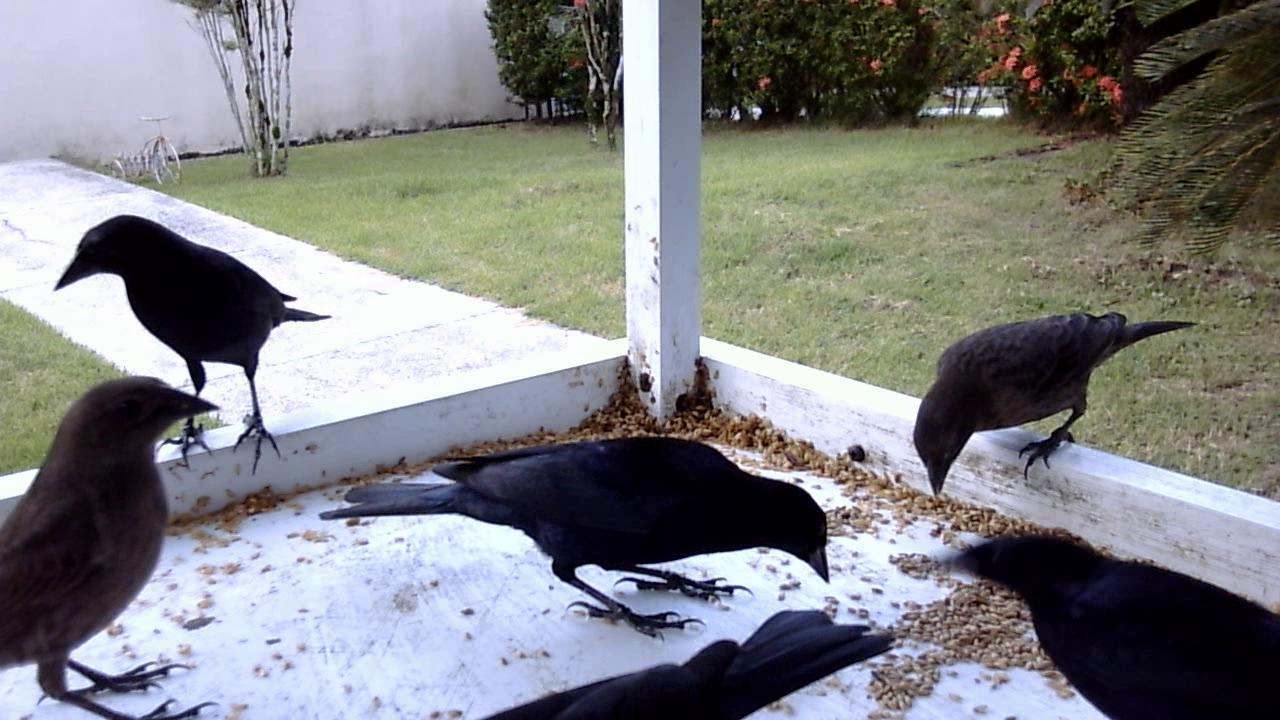chupim: (307, 430, 841, 647), (44, 204, 343, 480), (1, 359, 231, 715), (923, 512, 1275, 718), (904, 299, 1196, 507), (458, 593, 923, 718)
